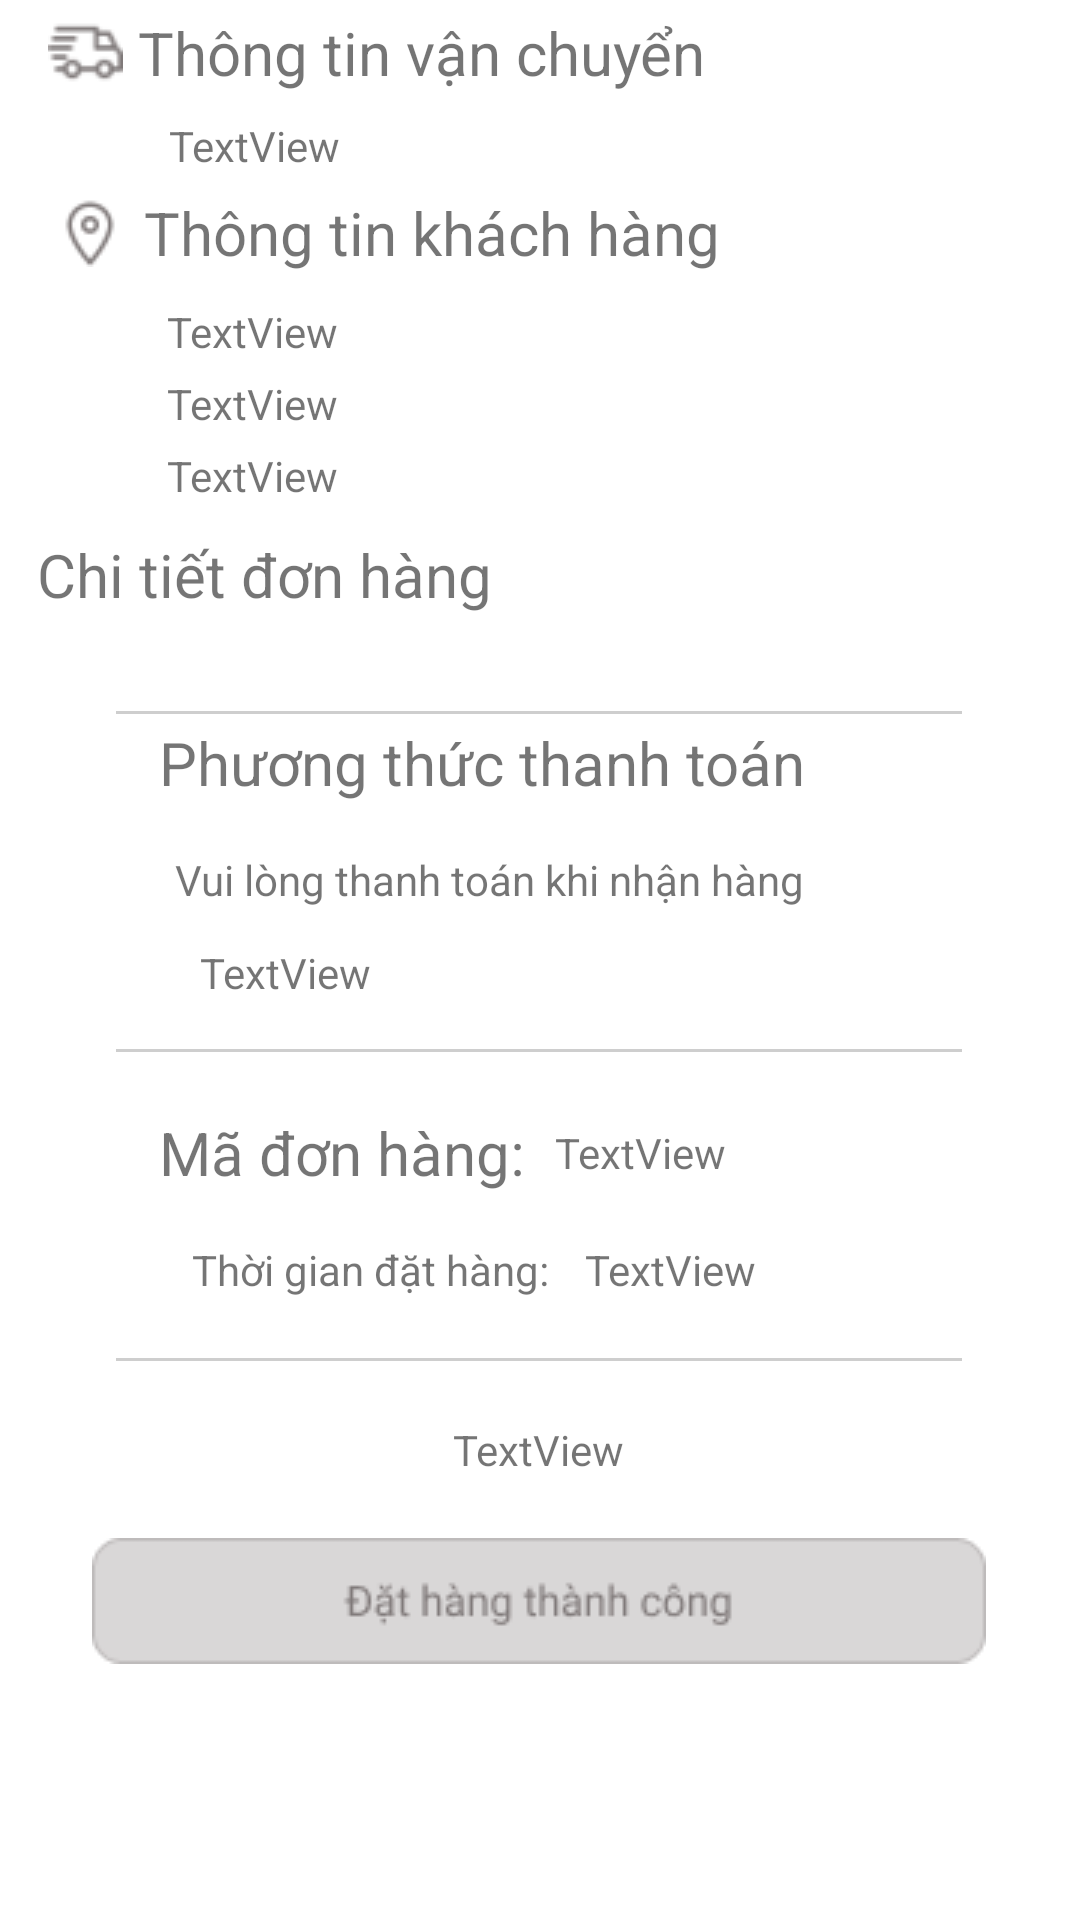

Named icons in this screenshot (1080w x 1920h) and their bounding boxes, (x1, y1, x2, y2):
delivery: (48, 26, 123, 79)
location: (66, 201, 114, 265)
